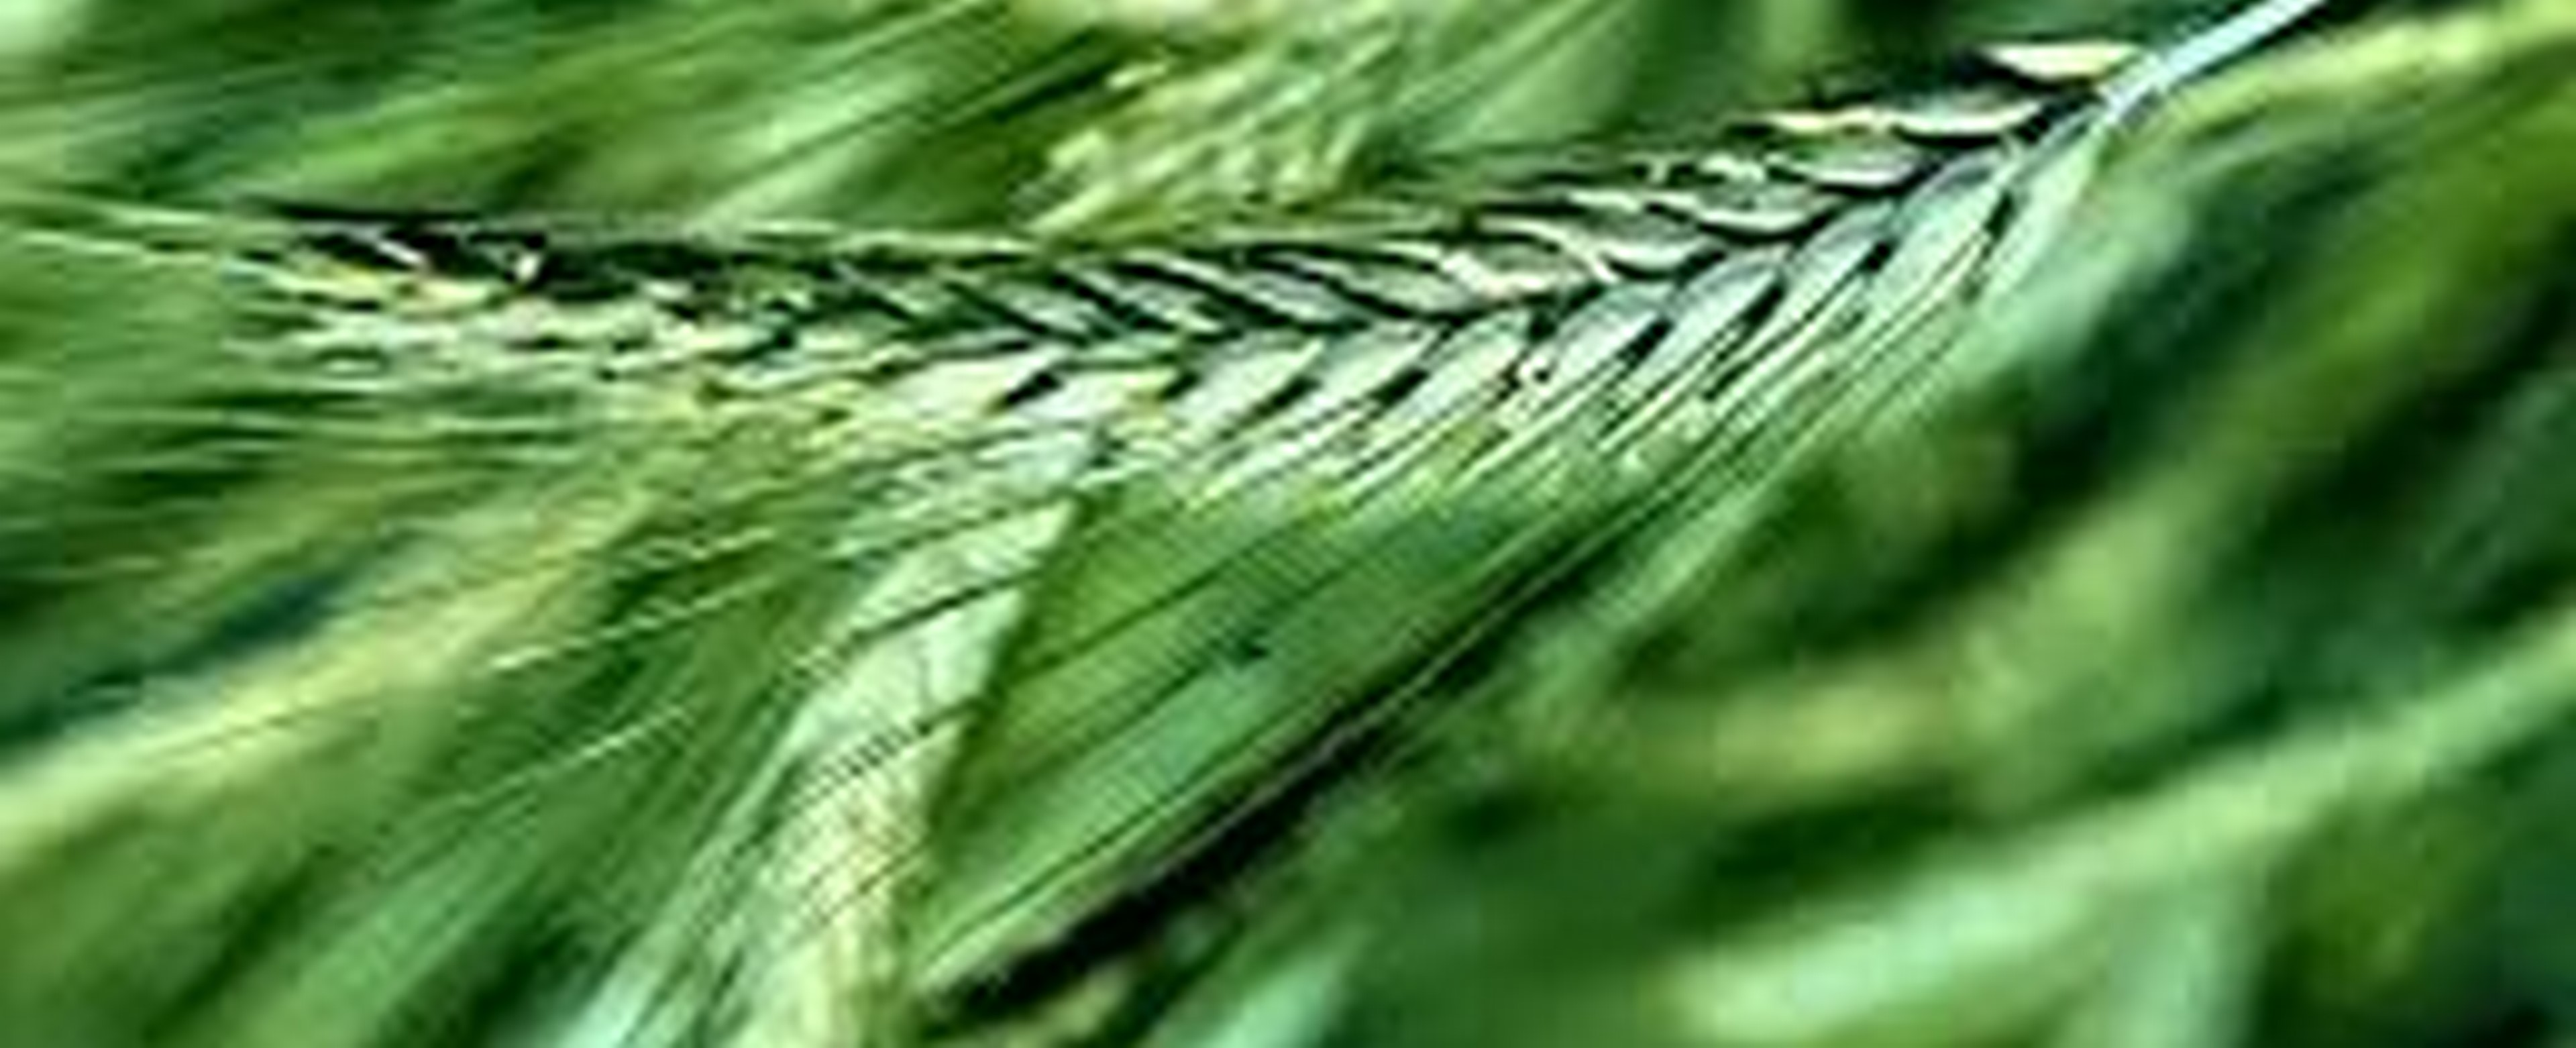Healthy Wheat: (235, 56, 2086, 476)
